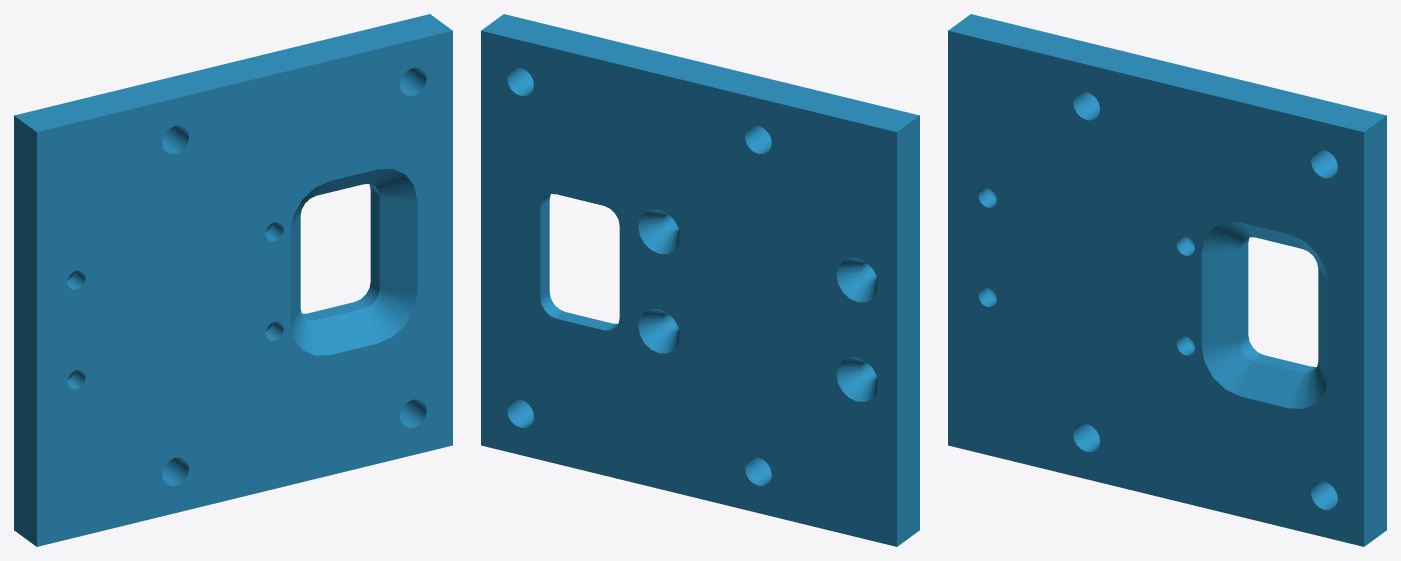
The picture shows the model from 3 angles, left to right: view 1: azimuth 30°, elevation 25°; view 2: azimuth 150°, elevation 25°; view 3: azimuth 330°, elevation 25°; orthographic projection.
Visible parts, largest first — view 1: mesh6431, mesh6433, mesh6434, mesh6441, mesh6440, mesh6443, mesh6455, mesh6445, mesh6447, mesh6454, mesh6438, mesh6437 (+3 smaller); view 2: mesh6460, mesh6433, mesh6434, mesh6459, mesh6457, mesh6462, mesh6430, mesh6454, mesh6438, mesh6437, mesh6439, mesh6436; view 3: mesh6431, mesh6433, mesh6432, mesh6447, mesh6445, mesh6443, mesh6449, mesh6440, mesh6441, mesh6448, mesh6439, mesh6437 (+3 smaller).
Part boxes in pixels (x1,y1,x2,y2): mesh6431: [37, 31, 452, 546]; mesh6433: [14, 14, 452, 131]; mesh6434: [14, 116, 36, 546]; mesh6441: [379, 197, 417, 292]; mesh6440: [364, 288, 417, 343]; mesh6443: [316, 308, 377, 354]; mesh6455: [364, 169, 417, 200]; mesh6445: [290, 308, 329, 355]; mesh6447: [290, 216, 300, 322]; mesh6454: [370, 190, 379, 287]; mesh6438: [400, 399, 426, 427]; mesh6437: [162, 457, 188, 485]; mesh6460: [481, 31, 896, 546]; mesh6433: [481, 14, 919, 131]; mesh6434: [897, 116, 919, 546]; mesh6459: [836, 357, 878, 401]; mesh6457: [836, 258, 878, 302]; mesh6462: [638, 209, 680, 253]; mesh6430: [638, 309, 680, 353]; mesh6454: [540, 200, 549, 297]; mesh6438: [507, 399, 533, 427]; mesh6437: [745, 457, 771, 485]; mesh6439: [507, 67, 533, 95]; mesh6436: [745, 125, 771, 154]; mesh6431: [948, 31, 1363, 546]; mesh6433: [948, 14, 1386, 131]; mesh6432: [1364, 116, 1386, 546]; mesh6447: [1201, 250, 1238, 345]; mesh6445: [1201, 341, 1254, 396]; mesh6443: [1241, 362, 1302, 408]; mesh6449: [1201, 222, 1254, 254]; mesh6440: [1289, 361, 1328, 408]; mesh6441: [1318, 270, 1328, 375]; mesh6448: [1239, 244, 1248, 340]; mesh6439: [1311, 149, 1337, 178]; mesh6437: [1073, 423, 1099, 451].
Size of the model in its own units: 0.0525 by 0.05 by 0.005.
